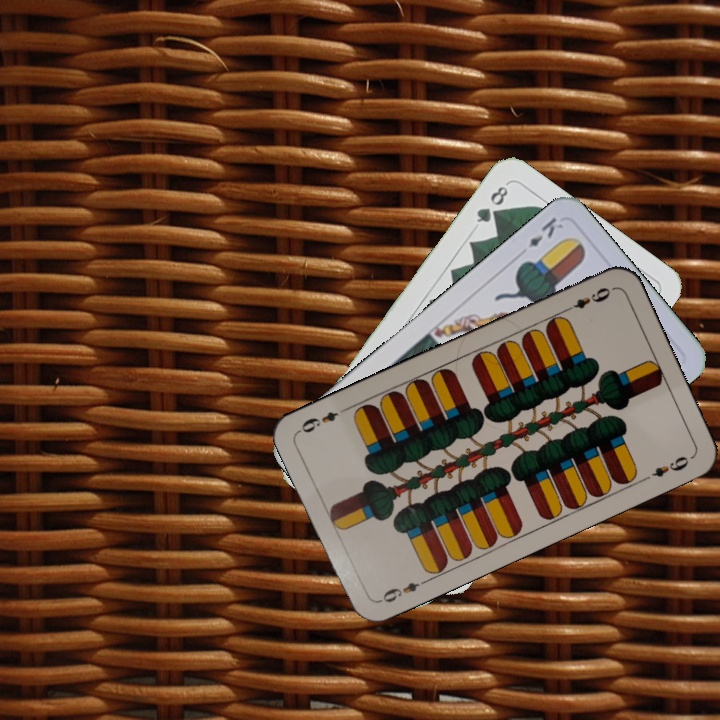E9: (560, 283, 616, 315), (374, 575, 430, 606)
EK: (524, 213, 566, 250)
G8: (472, 180, 511, 226)
